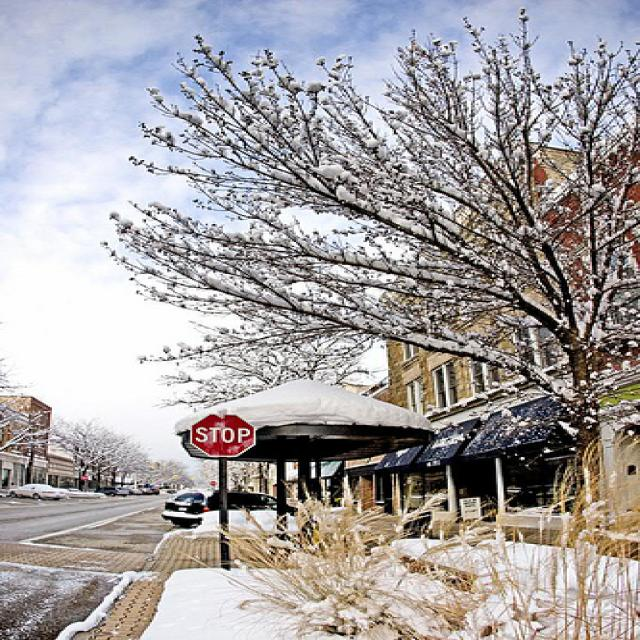Vehicle: (160, 488, 298, 525), (4, 482, 65, 502), (94, 486, 130, 497), (129, 488, 160, 495)
